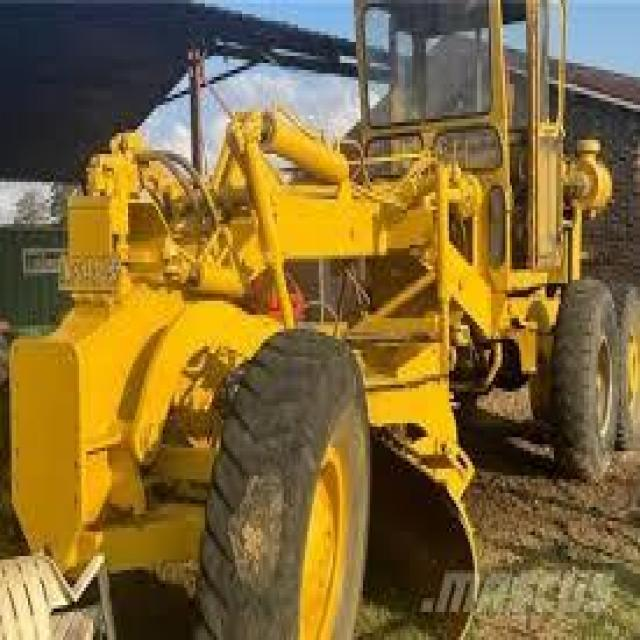Grader: (12, 4, 638, 633)
